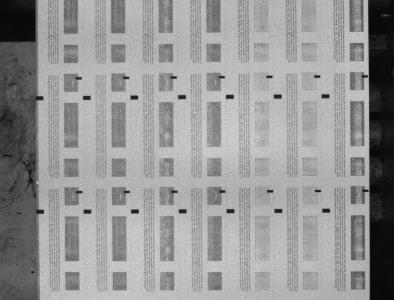backgroundclutter: (31, 270, 35, 273), (36, 181, 39, 184)
qblock: (322, 208, 331, 213), (84, 209, 92, 214), (36, 209, 44, 214), (83, 95, 91, 100), (226, 94, 234, 99), (130, 95, 139, 99), (131, 209, 139, 213), (275, 209, 283, 213), (179, 209, 187, 213), (36, 96, 44, 100), (227, 209, 235, 213), (178, 95, 186, 99), (274, 94, 282, 98), (322, 94, 330, 98)
smallqblock: (75, 76, 82, 80), (219, 75, 225, 79), (362, 75, 369, 78), (363, 189, 370, 192), (267, 190, 274, 193), (314, 75, 321, 78), (315, 189, 322, 192), (76, 190, 83, 193), (171, 76, 178, 79), (124, 190, 130, 193), (220, 190, 226, 193), (267, 75, 273, 78), (172, 190, 178, 193), (123, 76, 129, 79)
